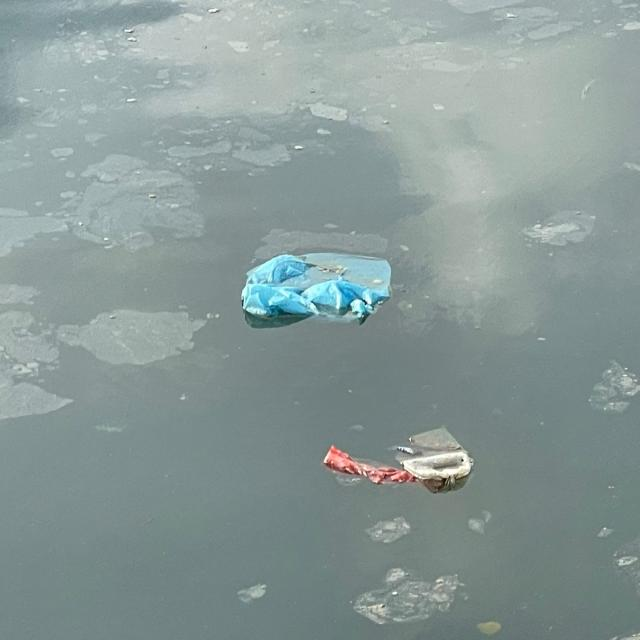Kantong Plastik: (237, 245, 397, 335), (394, 425, 479, 504), (324, 437, 416, 496)
